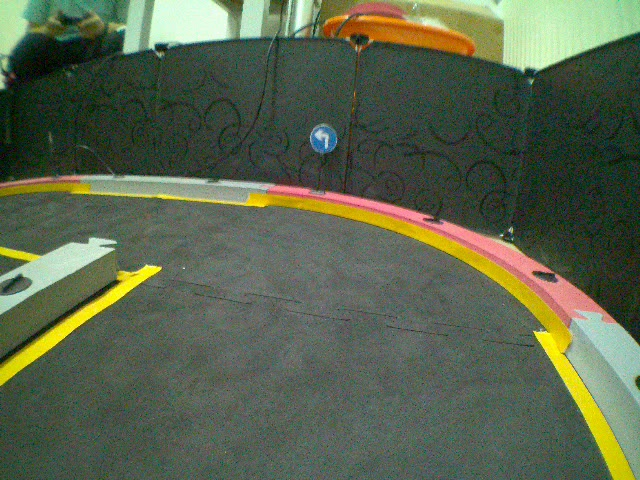turn: (311, 122, 338, 156)
